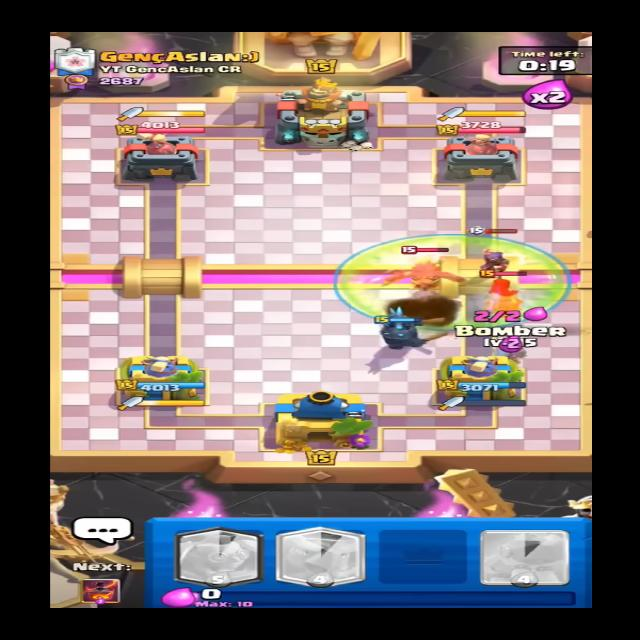evo-wizard: (460, 228, 518, 271)
phoenix: (367, 245, 474, 291)
ram-rider: (477, 268, 527, 316)
